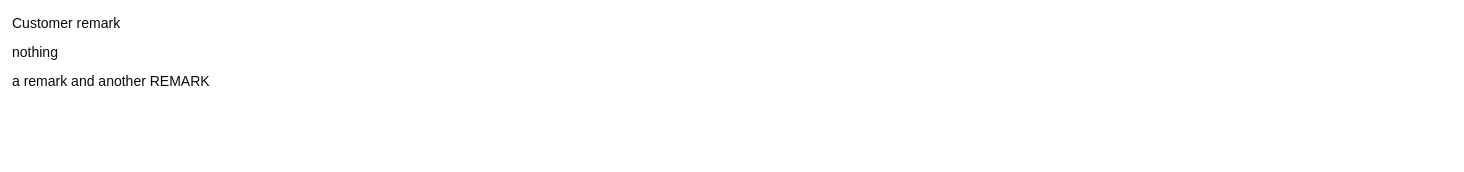
find in a note › ⌘F opens the bar, which counts matches and marks the blocks that hold them
Press f
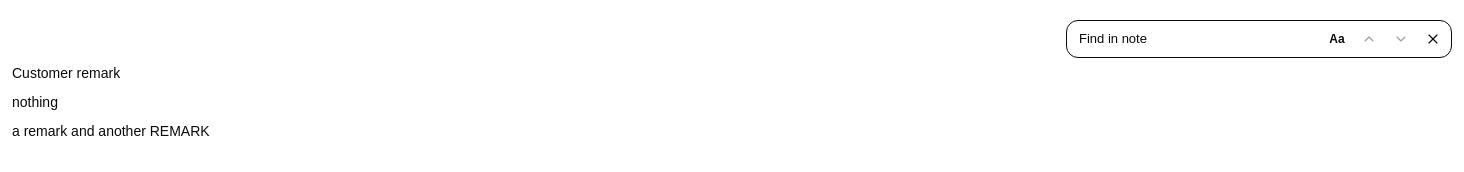
Type "remark" into the field labelled "Find in note" at (1169, 39), box [1079,29,1259,49]
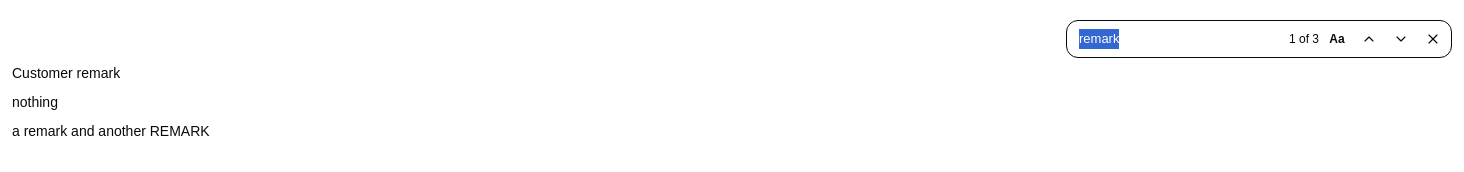
Expected: the text "1 of 3" is shown, [1289,32,1319,46]
